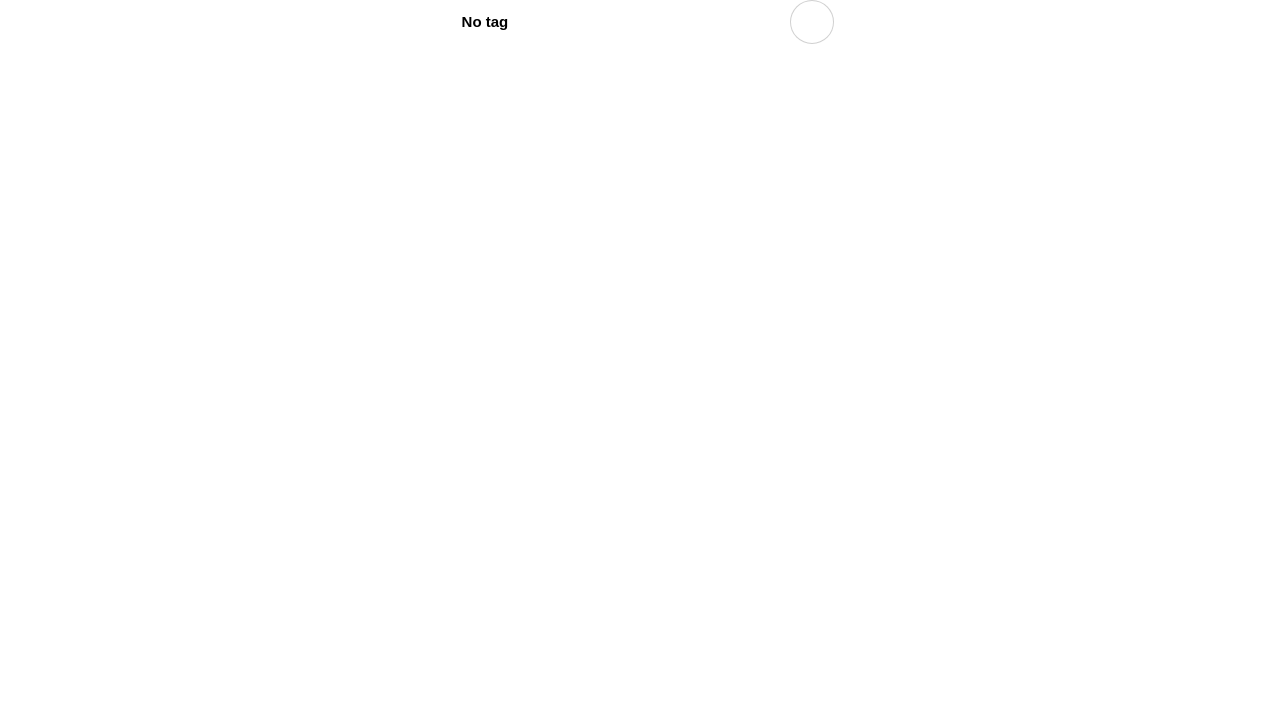
Test: TagPicker: the Edit tags view › opens from the pen at the top of the list (the pen is no longer in the row): a modal dialog with the name Edit tags, and the list is read only once
The width and height of the screenshot is (1280, 720).
What coordinates should you click on to do the following:
click the button with class "ab-tag-dots"
I would click on:
 (812, 22)
Its box is [790,0,834,44].
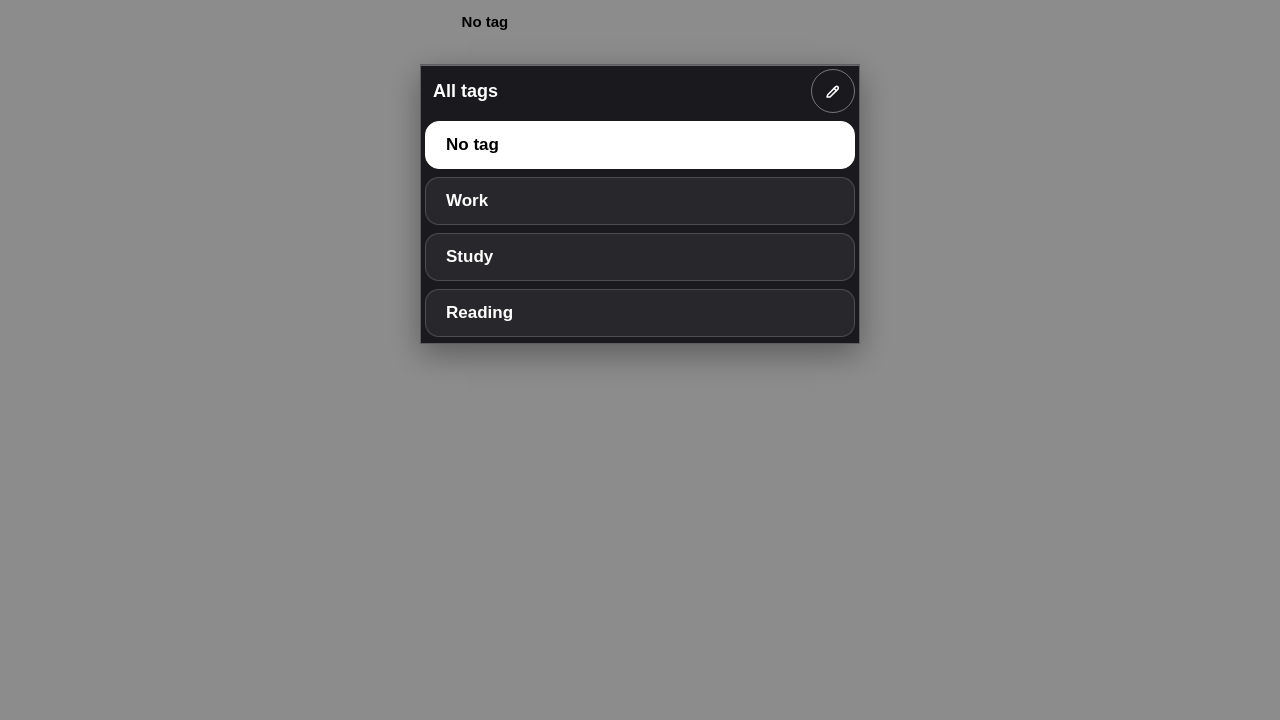
What coordinates should you click on to do the following:
click the button with class "ab-tag-edit-button"
I would click on:
 (833, 91)
Its box is [811,69,855,113].
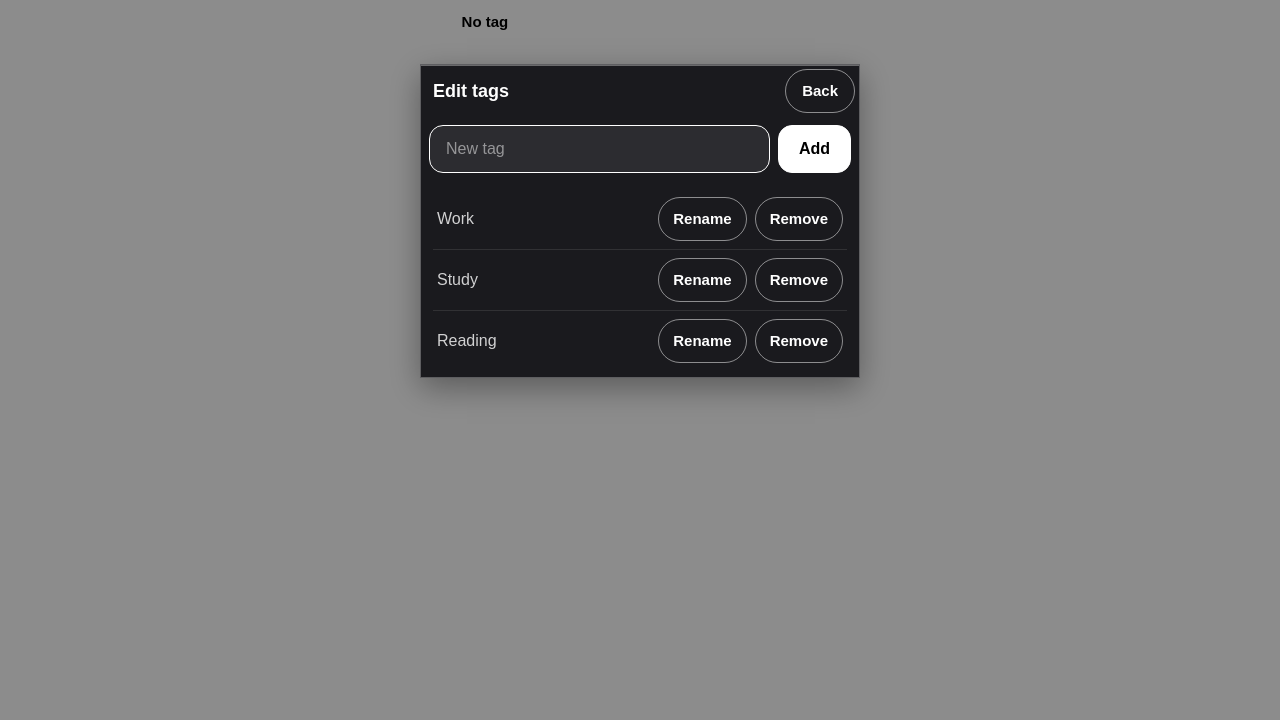
Expected: the text with class "ab-tag-title" reads "Edit tags", [433,80,509,100]
